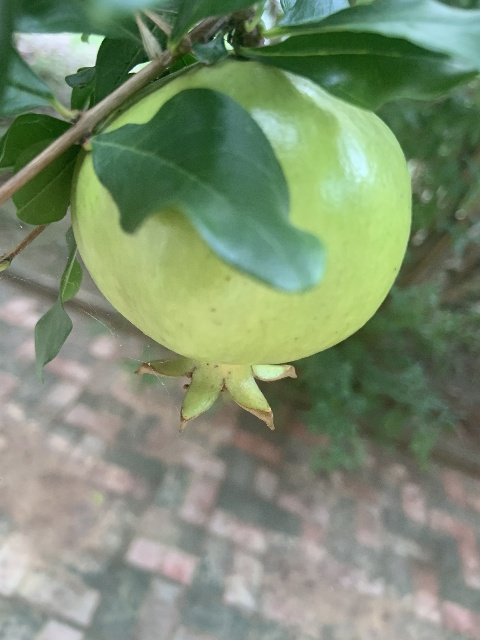mid-growth: (71, 61, 413, 429)
